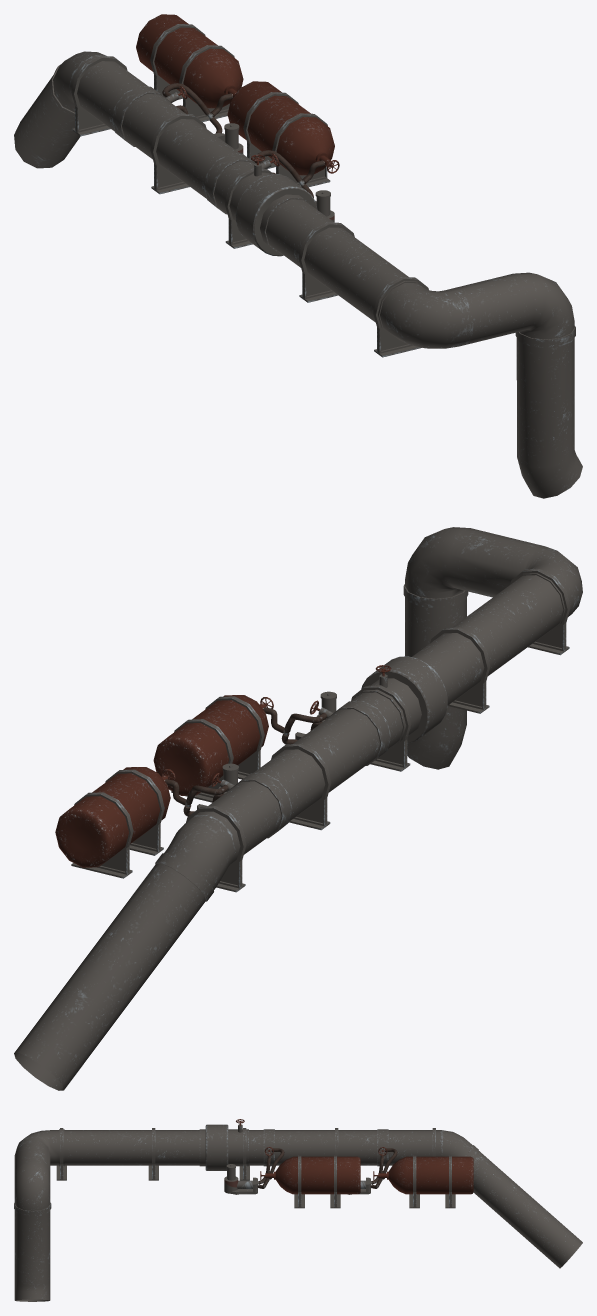
File: FuelLine.FBX
3 views of the same model, one above another, from view 1: azimuth 30°, elevation 25°; view 2: azimuth 150°, elevation 25°; view 3: azimuth 270°, elevation 25° (orthographic). The views are drawn at different scales.
Parts seen in each view (by area): view 1: FuelLine, Baloon, Baloon001, PressureValve, Holder001, Holder003, Holder004, Holder005, BaloonValve002, BaloonValve001, Holder008, Holder006 (+5 smaller); view 2: FuelLine, Baloon001, Baloon, PressureValve, Holder001, Holder003, Holder005, Holder002, Holder009, Holder004, Holder008, BaloonValve002 (+3 smaller); view 3: FuelLine, Baloon001, Baloon, PressureValve, HydraulicPump_X, BaloonValve001, BaloonValve002, Hose001, Hose002, Holder001, Holder005, Holder006 (+4 smaller).
Boxes of the visible parts, left/top/right/bottom form: FuelLine: left=14, top=51, right=582, bottom=498; Baloon: left=227, top=81, right=334, bottom=175; Baloon001: left=136, top=14, right=243, bottom=108; PressureValve: left=225, top=163, right=317, bottom=256; Holder001: left=298, top=222, right=354, bottom=302; Holder003: left=150, top=114, right=206, bottom=194; Holder004: left=71, top=56, right=127, bottom=136; Holder005: left=373, top=277, right=428, bottom=357; BaloonValve002: left=111, top=86, right=179, bottom=146; BaloonValve001: left=203, top=153, right=271, bottom=214; Holder008: left=179, top=45, right=234, bottom=121; Holder006: left=272, top=113, right=330, bottom=187; FuelLine: left=14, top=527, right=582, bottom=1090; Baloon001: left=55, top=767, right=170, bottom=867; Baloon: left=153, top=695, right=268, bottom=795; PressureValve: left=351, top=656, right=447, bottom=749; Holder001: left=430, top=627, right=490, bottom=713; Holder003: left=271, top=744, right=331, bottom=830; Holder005: left=510, top=569, right=570, bottom=655; Holder002: left=351, top=685, right=411, bottom=771; Holder009: left=71, top=792, right=133, bottom=878; Holder004: left=186, top=806, right=246, bottom=892; Holder008: left=105, top=769, right=164, bottom=855; BaloonValve002: left=220, top=773, right=292, bottom=838; FuelLine: left=14, top=1129, right=582, bottom=1301; Baloon001: left=378, top=1156, right=473, bottom=1194; Baloon: left=265, top=1156, right=360, bottom=1194; PressureValve: left=199, top=1124, right=248, bottom=1170; HydraulicPump_X: left=224, top=1164, right=259, bottom=1194; BaloonValve001: left=263, top=1129, right=274, bottom=1166; BaloonValve002: left=377, top=1129, right=388, bottom=1166; Hose001: left=257, top=1148, right=284, bottom=1188; Hose002: left=370, top=1148, right=397, bottom=1188; Holder001: left=148, top=1128, right=158, bottom=1180; Holder005: left=56, top=1128, right=66, bottom=1180; Holder006: left=294, top=1155, right=304, bottom=1208.
Size of the model in its own units: 184 by 230 by 795.
Materials: 1 (1 with a texture image).
